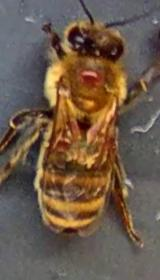varroa_mite: (75, 62, 110, 98), (44, 132, 76, 157)
